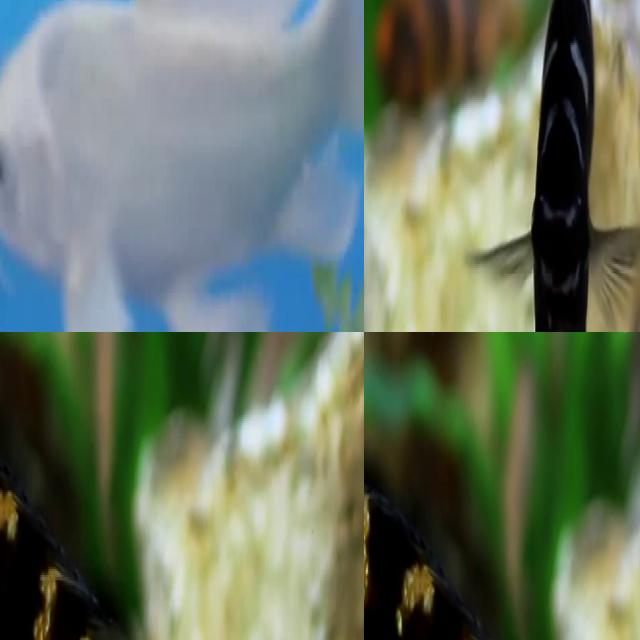fish: (0, 0, 364, 332), (81, 332, 130, 532)
